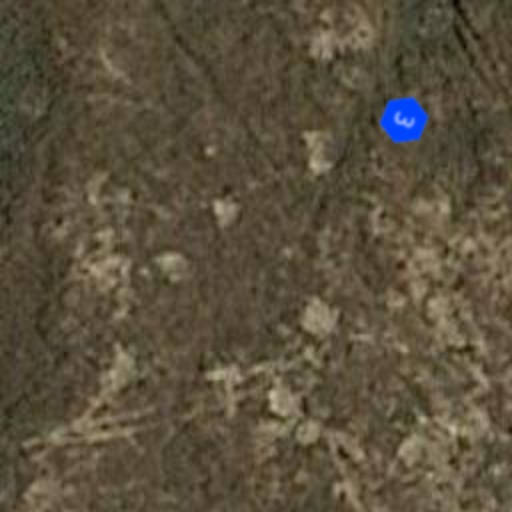hexagon: (370, 86, 438, 154)
